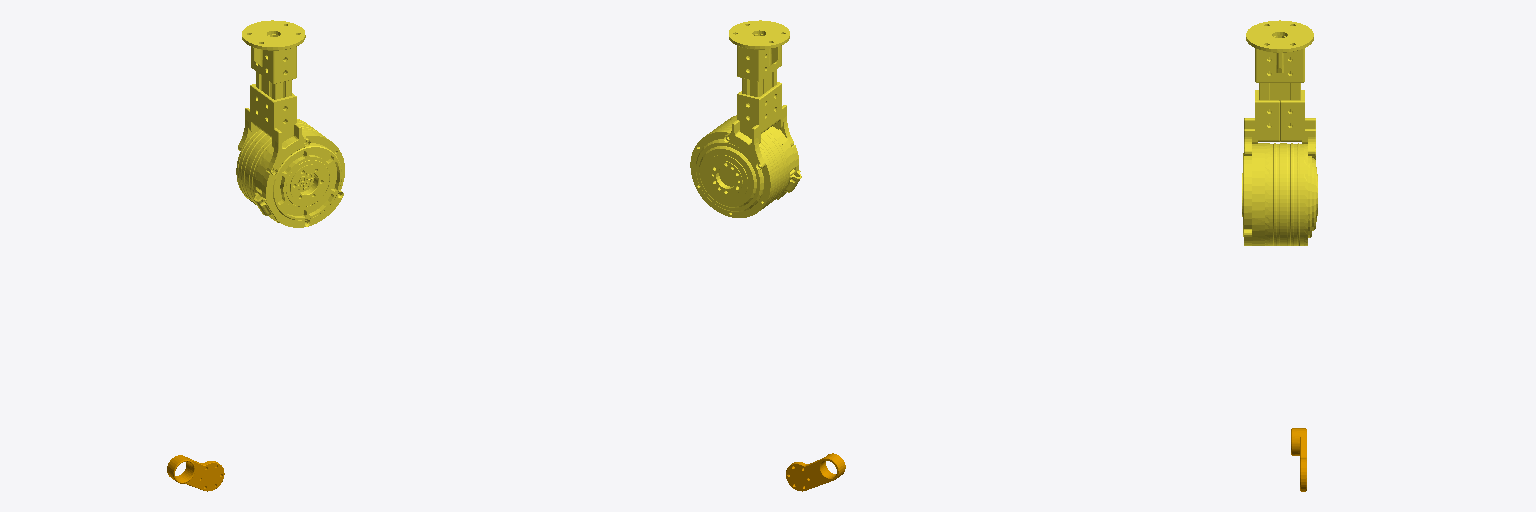
URDF robot description (leader):
<?xml version="1.0"?>
<robot name="leader">
  <material name="trossen_black">
    <texture filename="package://trossen_arm_description/meshes/trossen_black.png"/>
  </material>
  <link name="base_link">
    <inertial>
      <origin rpy="0 0 0" xyz="0.00005199 -0.03429087 0.00005295"/>
      <mass value="0.37290125"/>
      <inertia ixx="0.00034804" ixy="-0.00000039" ixz="-0.00000003" iyy="0.00014057" iyz="-0.00000080" izz="0.00034074"/>
    </inertial>
    <visual>
      <origin rpy="0 0 0" xyz="0 0 0"/>
      <geometry>
        <mesh filename="package://trossen_arm_description/meshes/leader/base_link_right.stl"/>
      </geometry>
      <material name="trossen_black"/>
    </visual>
    <collision>
      <origin rpy="0 0 0" xyz="0 0 0"/>
      <geometry>
        <mesh filename="package://trossen_arm_description/meshes/leader/base_link_right.stl"/>
      </geometry>
    </collision>
  </link>
  <link name="link_1">
    <inertial>
      <origin rpy="0 0 0" xyz="0.00331378 -0.03460068 -0.00004285"/>
      <mass value="0.45236030"/>
      <inertia ixx="0.00018930" ixy="0.00000360" ixz="-0.00000033" iyy="0.00043171" iyz="0.00000000" izz="0.00045089"/>
    </inertial>
    <visual>
      <origin rpy="0 0 0" xyz="0 0 0"/>
      <geometry>
        <mesh filename="package://trossen_arm_description/meshes/leader/link_1_right.stl"/>
      </geometry>
      <material name="trossen_black"/>
    </visual>
    <collision>
      <origin rpy="0 0 0" xyz="0 0 0"/>
      <geometry>
        <mesh filename="package://trossen_arm_description/meshes/leader/link_1_right.stl"/>
      </geometry>
    </collision>
  </link>
  <joint name="joint_0" type="revolute">
    <parent link="base_link"/>
    <child link="link_1"/>
    <origin rpy="0 0 0" xyz="0 -0.05825 0"/>
    <axis xyz="0 -1 0"/>
    <limit effort="0" lower="-1.5707963267948966" upper="3.141592653589793" velocity="6.283185307179586"/>
  </joint>
  <link name="link_2">
    <inertial>
      <origin rpy="0 0 0" xyz="-0.00000527 0.00001239 -0.08091014"/>
      <mass value="0.33783172"/>
      <inertia ixx="0.00031788" ixy="0.00000004" ixz="-0.00000049" iyy="0.00034942" iyz="-0.00000045" izz="0.00016037"/>
    </inertial>
    <visual>
      <origin rpy="0 0 0" xyz="0 0 0"/>
      <geometry>
        <mesh filename="package://trossen_arm_description/meshes/leader/link_2.stl"/>
      </geometry>
      <material name="trossen_black"/>
    </visual>
    <collision>
      <origin rpy="0 0 0" xyz="0 0 0"/>
      <geometry>
        <mesh filename="package://trossen_arm_description/meshes/leader/link_2.stl"/>
      </geometry>
    </collision>
  </link>
  <joint name="joint_1" type="revolute">
    <parent link="link_1"/>
    <child link="link_2"/>
    <axis xyz="1 0 0"/>
    <origin rpy="0 0 0" xyz="0 -0.0365 0"/>
    <limit effort="0" lower="-3.141592653589793" upper="0" velocity="6.283185307179586"/>
  </joint>
  <link name="link_3">
    <inertial>
      <origin rpy="0 0 0" xyz="0.01706827 0.00212153 -0.16679020"/>
      <mass value="0.46940642"/>
      <inertia ixx="0.00182642" ixy="-0.00000341" ixz="0.00015666" iyy="0.00165644" iyz="0.00002673" izz="0.00039819"/>
    </inertial>
    <visual>
      <origin rpy="0 0 0" xyz="0 0 0"/>
      <geometry>
        <mesh filename="package://trossen_arm_description/meshes/leader/link_3_right.stl"/>
      </geometry>
      <material name="trossen_black"/>
    </visual>
    <collision>
      <origin rpy="0 0 0" xyz="0 0 0"/>
      <geometry>
        <mesh filename="package://trossen_arm_description/meshes/leader/link_3_right.stl"/>
      </geometry>
    </collision>
  </link>
  <joint name="joint_2" type="revolute">
    <origin rpy="0 0 0" xyz="0 0 -0.106"/>
    <parent link="link_2"/>
    <child link="link_3"/>
    <axis xyz="0 0 -1"/>
    <limit effort="0" lower="-1.5707963267948966" upper="1.5707963267948966" velocity="6.283185307179586"/>
  </joint>
  <link name="link_4">
    <inertial>
      <origin rpy="0 0 0" xyz="-0.01912502 0.00002771 -0.08994190"/>
      <mass value="0.19153172"/>
      <inertia ixx="0.00019027" ixy="-0.00000010" ixz="-0.00001489" iyy="0.00015938" iyz="-0.00000047" izz="0.00008565"/>
    </inertial>
    <visual>
      <origin rpy="0 0 0" xyz="0 0 0"/>
      <geometry>
        <mesh filename="package://trossen_arm_description/meshes/leader/link_4.stl"/>
      </geometry>
      <material name="trossen_black"/>
    </visual>
    <collision>
      <origin rpy="0 0 0" xyz="0 0 0"/>
      <geometry>
        <mesh filename="package://trossen_arm_description/meshes/leader/link_4.stl"/>
      </geometry>
    </collision>
  </link>
  <joint name="joint_3" type="revolute">
    <origin rpy="0 0 0" xyz="0.02 0 -0.1938"/>
    <parent link="link_3"/>
    <child link="link_4"/>
    <axis xyz="0 -1 0"/>
    <limit effort="0" lower="0" upper="2.356194490192345" velocity="6.283185307179586"/>
  </joint>
  <link name="link_5">
    <inertial>
      <origin rpy="0 0 0" xyz="-0.00025767 0.00302328 -0.03375968"/>
      <mass value="0.24163171"/>
      <inertia ixx="0.00022638" ixy="0.00000100" ixz="-0.00000442" iyy="0.00016124" iyz="0.00000725" izz="0.00013726"/>
    </inertial>
    <visual>
      <origin rpy="0 0 0" xyz="0 0 0"/>
      <geometry>
        <mesh filename="package://trossen_arm_description/meshes/leader/link_5.stl"/>
      </geometry>
      <material name="trossen_black"/>
    </visual>
    <collision>
      <origin rpy="0 0 0" xyz="0 0 0"/>
      <geometry>
        <mesh filename="package://trossen_arm_description/meshes/leader/link_5.stl"/>
      </geometry>
    </collision>
  </link>
  <joint name="joint_4" type="revolute">
    <origin rpy="0 0 0" xyz="-0.02 0 -0.1185"/>
    <parent link="link_4"/>
    <child link="link_5"/>
    <axis xyz="0 0 -1"/>
    <limit effort="0" lower="-1.5707963267948966" upper="1.5707963267948966" velocity="6.283185307179586"/>
  </joint>
  <link name="link_6">
    <inertial>
      <origin rpy="0 0 0" xyz="-0.01044529 0.00000910 0.00011242"/>
      <mass value="0.18731697"/>
      <inertia ixx="0.00006195" ixy="-0.00000001" ixz="-0.00000032" iyy="0.00005051" iyz="0.00000000" izz="0.00006440"/>
    </inertial>
    <visual>
      <origin rpy="0 0 0" xyz="0 0 0"/>
      <geometry>
        <mesh filename="package://trossen_arm_description/meshes/leader/link_6.stl"/>
      </geometry>
      <material name="trossen_black"/>
    </visual>
    <collision>
      <origin rpy="0 0 0" xyz="0 0 0"/>
      <geometry>
        <mesh filename="package://trossen_arm_description/meshes/leader/link_6.stl"/>
      </geometry>
    </collision>
  </link>
  <joint name="joint_5" type="revolute">
    <origin rpy="0 0 0" xyz="0 0 -0.101"/>
    <parent link="link_5"/>
    <child link="link_6"/>
    <axis xyz="0 1 0"/>
    <limit effort="0" lower="-0.7853981633974483" upper="0.7853981633974483" velocity="6.283185307179586"/>
  </joint>
  <link name="link_7">
    <inertial>
      <origin rpy="0 0 0" xyz="-0.04169427 0.00058029 -0.06323582"/>
      <mass value="0.23686287"/>
      <inertia ixx="0.00019957" ixy="-0.00000203" ixz="0.00016948" iyy="0.00053905" iyz="0.00000192" izz="0.00038760"/>
    </inertial>
    <visual>
      <origin rpy="0 0 0" xyz="0 0 0"/>
      <geometry>
        <mesh filename="package://trossen_arm_description/meshes/leader/link_7.stl"/>
      </geometry>
      <material name="trossen_black"/>
    </visual>
    <collision>
      <origin rpy="0 0 0" xyz="0 0 0"/>
      <geometry>
        <mesh filename="package://trossen_arm_description/meshes/leader/link_7.stl"/>
      </geometry>
    </collision>
  </link>
  <joint name="joint_6" type="revolute">
    <origin rpy="0 0 0" xyz="-0.034 0 0"/>
    <parent link="link_6"/>
    <child link="link_7"/>
    <axis xyz="1 0 0"/>
    <limit effort="0" lower="-1.5707963267948966" upper="1.5707963267948966" velocity="6.283185307179586"/>
  </joint>
  <link name="link_8">
    <inertial>
      <origin rpy="0 0 0" xyz="-0.01502064 0.00191435 0.00656522"/>
      <mass value="0.00915397"/>
      <inertia ixx="0.00000120" ixy="-0.00000021" ixz="0.00000102" iyy="0.00000385" iyz="0.00000011" izz="0.00000284"/>
    </inertial>
    <visual>
      <origin rpy="0 0 0" xyz="0 0 0"/>
      <geometry>
        <mesh filename="package://trossen_arm_description/meshes/leader/link_8.stl"/>
      </geometry>
      <material name="trossen_black"/>
    </visual>
    <collision>
      <origin rpy="0 0 0" xyz="0 0 0"/>
      <geometry>
        <mesh filename="package://trossen_arm_description/meshes/leader/link_8.stl"/>
      </geometry>
    </collision>
  </link>
  <joint name="joint_7" type="revolute">
    <origin rpy="0 0 0" xyz="-0.02847106 0.01930000 -0.07900135"/>
    <parent link="link_7"/>
    <child link="link_8"/>
    <axis xyz="0 1 0"/>
    <limit effort="0" lower="-1.5707963267948966" upper="1.5707963267948966" velocity="0"/>
  </joint>
  <joint name="ee_gripper" type="fixed">
    <origin rpy="0 0 0" xyz="-0.021 0 -0.200062"/>
    <parent link="link_8"/>
    <child link="ee_gripper_link"/>
  </joint>
  <link name="ee_gripper_link"/>
</robot>

--- What the picture shows (computed from the rendered views, not written in the file) ---
The picture shows the robot from 3 angles, left to right: view 1: azimuth 30°, elevation 25°; view 2: azimuth 150°, elevation 25°; view 3: azimuth 270°, elevation 25°; orthographic projection.
Robot: leader — 10 links, 9 joints (8 revolute, 1 fixed); root link base_link; default pose: all joints at 0.
Links seen in each view (by area): view 1: link_3, link_8; view 2: link_3, link_8; view 3: link_3, link_8.
Boxes of the visible links, box(x1,y1,x2,y2) form: link_3: box(236, 20, 344, 227); link_8: box(167, 455, 224, 491); link_3: box(690, 20, 801, 217); link_8: box(786, 453, 845, 491); link_3: box(1242, 20, 1317, 245); link_8: box(1291, 428, 1306, 491).
Bounding box of the posed robot: 0.1807 × 0.072 × 0.5082 m (x, y, z).
Meshes: 9 distinct files referenced, 2 mesh visuals loaded (2 binary STL); not drawn: 7 (reference not matched to a file when rendering).